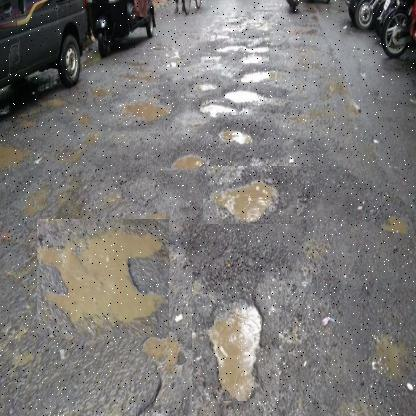pothole_water: (36, 219, 169, 338), (191, 272, 279, 402), (202, 166, 297, 225)
